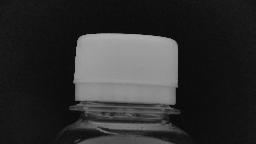Good Cap: (62, 29, 186, 119)
